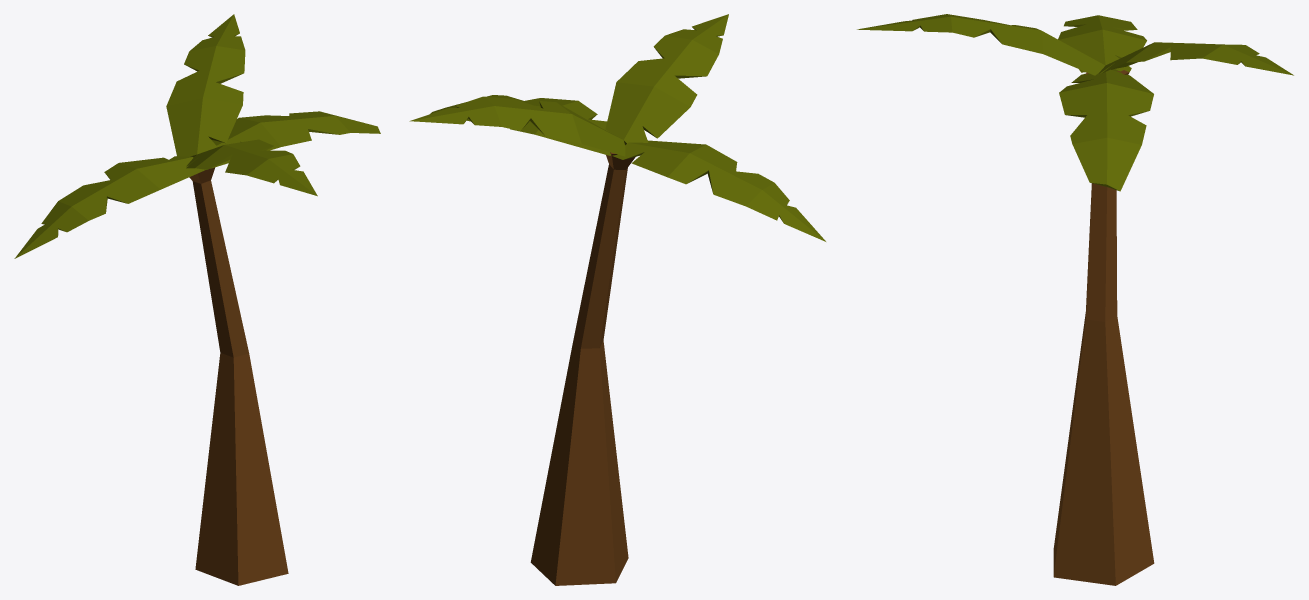
File: PalmTree2.fbx
3 renders of one model, left to right at view 1: azimuth 30°, elevation 25°; view 2: azimuth 150°, elevation 25°; view 3: azimuth 270°, elevation 25°, orthographic. The views are drawn at different scales.
Parts seen in each view (by area): view 1: PalmTree2; view 2: PalmTree2; view 3: PalmTree2.
Boxes of the visible parts, x1,y1,x2,y2 form: PalmTree2: (14, 14, 380, 585); PalmTree2: (409, 14, 825, 585); PalmTree2: (857, 14, 1293, 585).
Bounding box in the file's own units: 272 × 329 × 245.
